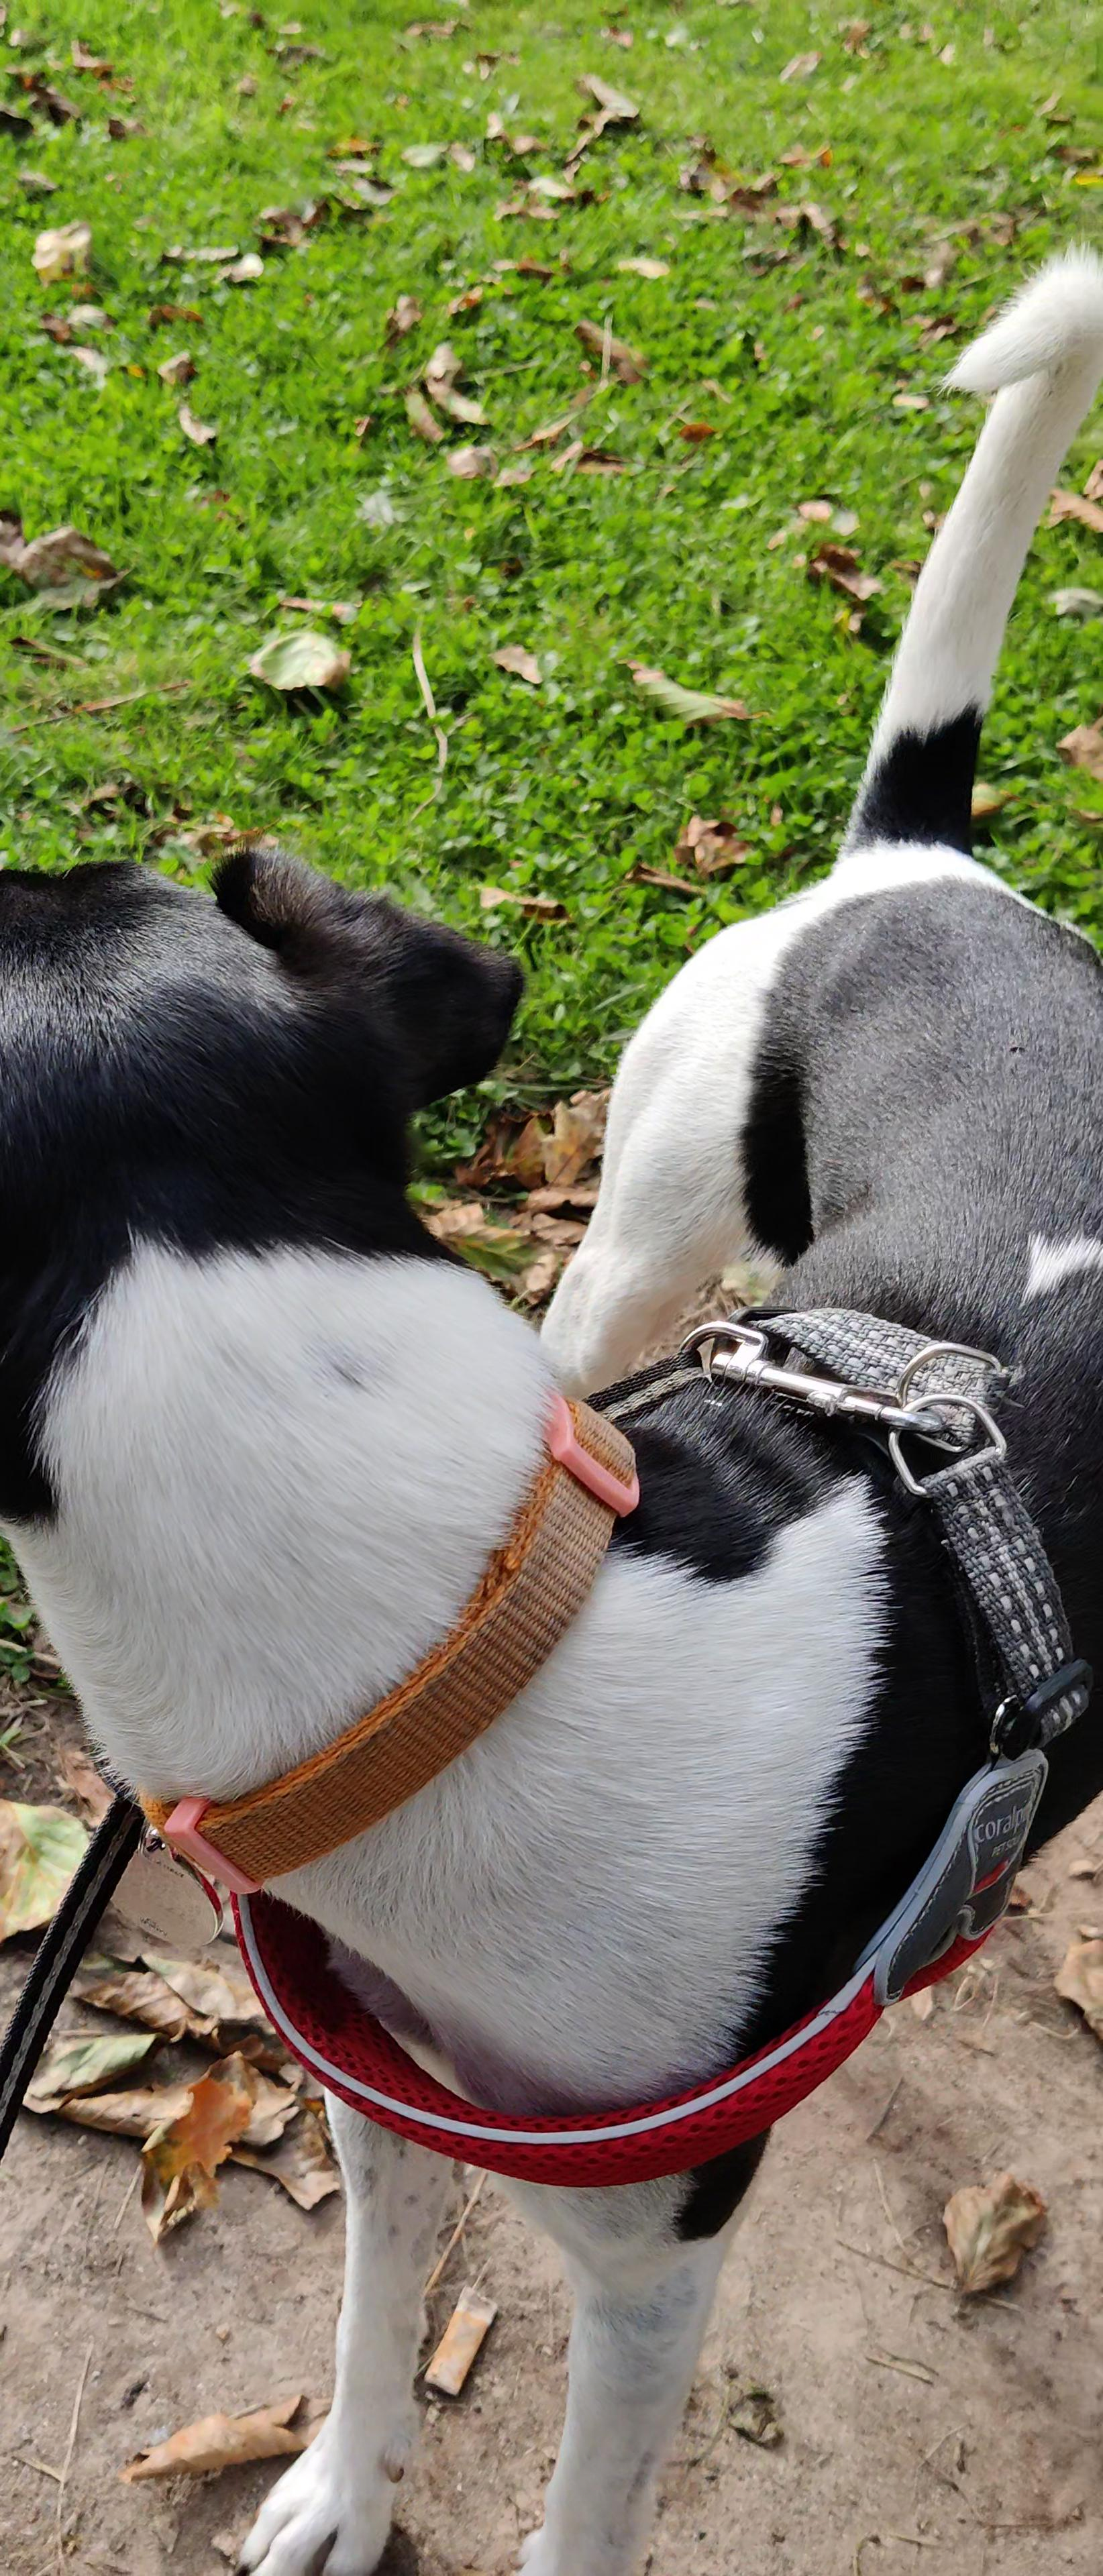Dog: (0, 209, 1103, 2576)
